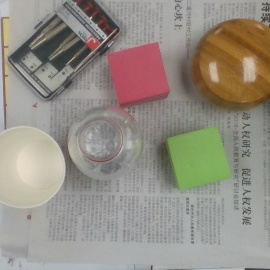bottle: (65, 105, 143, 181)
chess: (191, 18, 269, 112)
cup: (1, 127, 67, 210)
